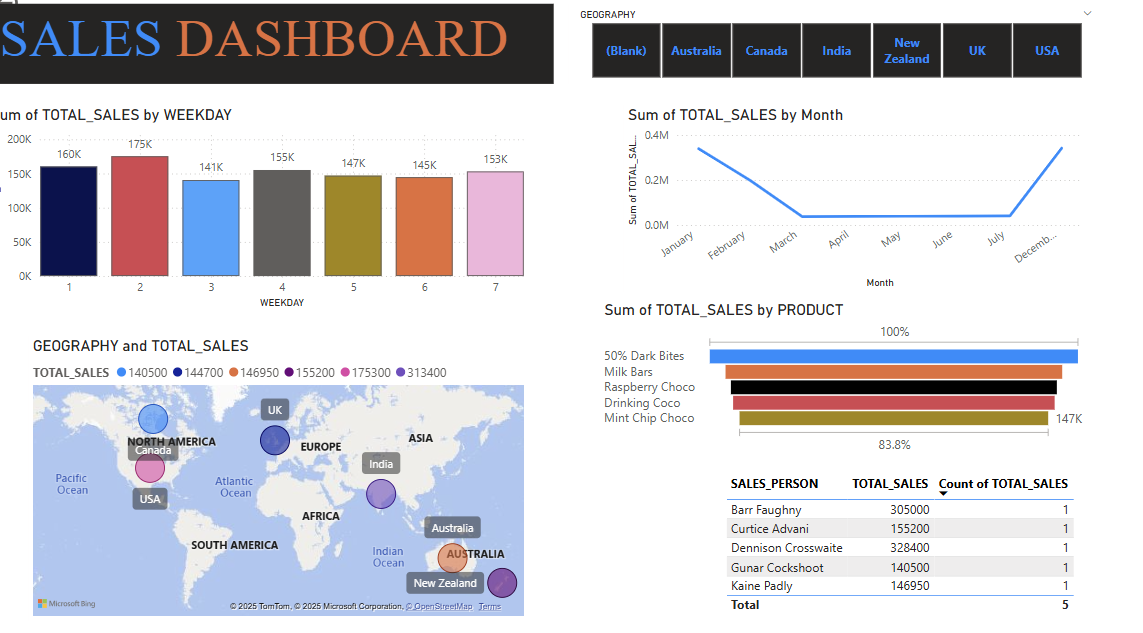

The page's visual inventory and layout, read from the dashboard file:
{"tool":"powerbi","page":{"name":"GROUPBY","canvas":[1280,720],"ordinal":0},"visuals":[{"type":"clusteredColumnChart","fields":{"Category":["best sales days.WEEKDAY"],"Y":["best sales days.TOTAL_SALES"]},"box":[0,131.7,595.5,227.8],"z":0},{"type":"lineChart","fields":{"Category":["monthly sales trends.MONTH.Variation.Date Hierarchy.Month"],"Y":["monthly sales trends.TOTAL_SALES"]},"box":[699.8,131.7,509.1,205.8],"z":1000},{"type":"map","fields":{"Category":["sales performance by geography.GEOGRAPHY"],"Series":["sales performance by geography.TOTAL_SALES"]},"box":[46.7,385.6,548.9,312.9],"z":2000},{"type":"funnel","fields":{"Category":["top selling products.PRODUCT"],"Y":["top selling products.TOTAL_SALES"]},"box":[673.8,345.8,535.2,172.9],"z":3000},{"type":"tableEx","fields":{"Values":["Total sales per person.SALES_PERSON","Total sales per person.TOTAL_SALES","Total sales per person.TOTAL_SALES"]},"box":[806.9,531,392.5,189.4],"z":4000},{"type":"actionButton","box":[0,0,100,40],"z":5000},{"type":"slicer","fields":{"Values":["sales performance by geography.GEOGRAPHY"]},"box":[639.5,20.6,587.3,87.8],"z":6000},{"type":"textbox","box":[9.6,20.6,613.4,87.8],"z":6001}]}

Visuals, with their boxes in screenshot pixels (x1, y1, x2, y2), scaled from the page's 1280x720 canvas onto the 1143x633 screenshot:
clusteredColumnChart - best sales days.WEEKDAY x best sales days.TOTAL_SALES: l=0, t=116, r=532, b=316
lineChart - monthly sales trends.MONTH.Variation.Date Hierarchy.Month x monthly sales trends.TOTAL_SALES: l=625, t=116, r=1080, b=297
map - sales performance by geography.GEOGRAPHY x sales performance by geography.TOTAL_SALES: l=42, t=339, r=532, b=614
funnel - top selling products.PRODUCT x top selling products.TOTAL_SALES: l=602, t=304, r=1080, b=456
tableEx - Total sales per person.SALES_PERSON x Total sales per person.TOTAL_SALES: l=721, t=467, r=1071, b=632
actionButton: l=0, t=0, r=89, b=35
slicer - sales performance by geography.GEOGRAPHY: l=571, t=18, r=1095, b=95
textbox: l=9, t=18, r=556, b=95
